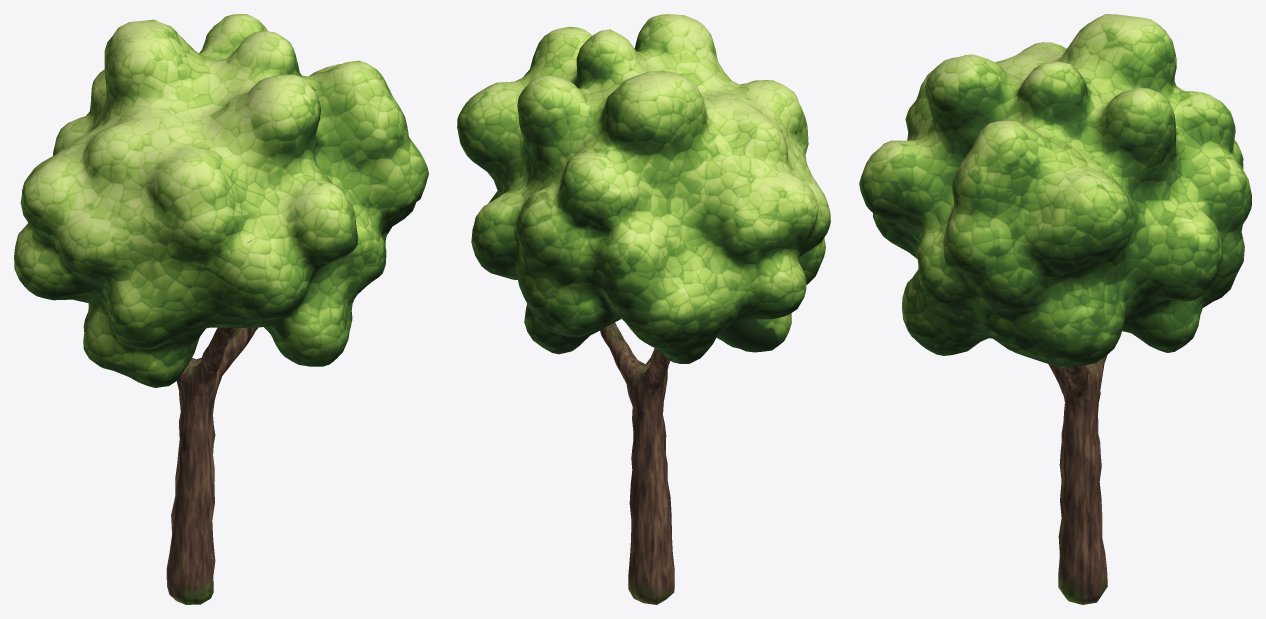
The model's file is tree_broadleaf_medium.glb.
3 views of the same model, side by side, from view 1: azimuth 30°, elevation 25°; view 2: azimuth 150°, elevation 25°; view 3: azimuth 270°, elevation 25° (orthographic). The views are drawn at different scales.
Visible parts, largest first — view 1: tree_broadleaf_medium; view 2: tree_broadleaf_medium; view 3: tree_broadleaf_medium.
Boxes of the visible parts, <box> form: tree_broadleaf_medium: <box>14,14,428,604</box>; tree_broadleaf_medium: <box>457,14,830,604</box>; tree_broadleaf_medium: <box>859,14,1251,604</box>.
Bounding box in the file's own units: 4.7 × 7.09 × 4.43.
1 material, 1 textured.
